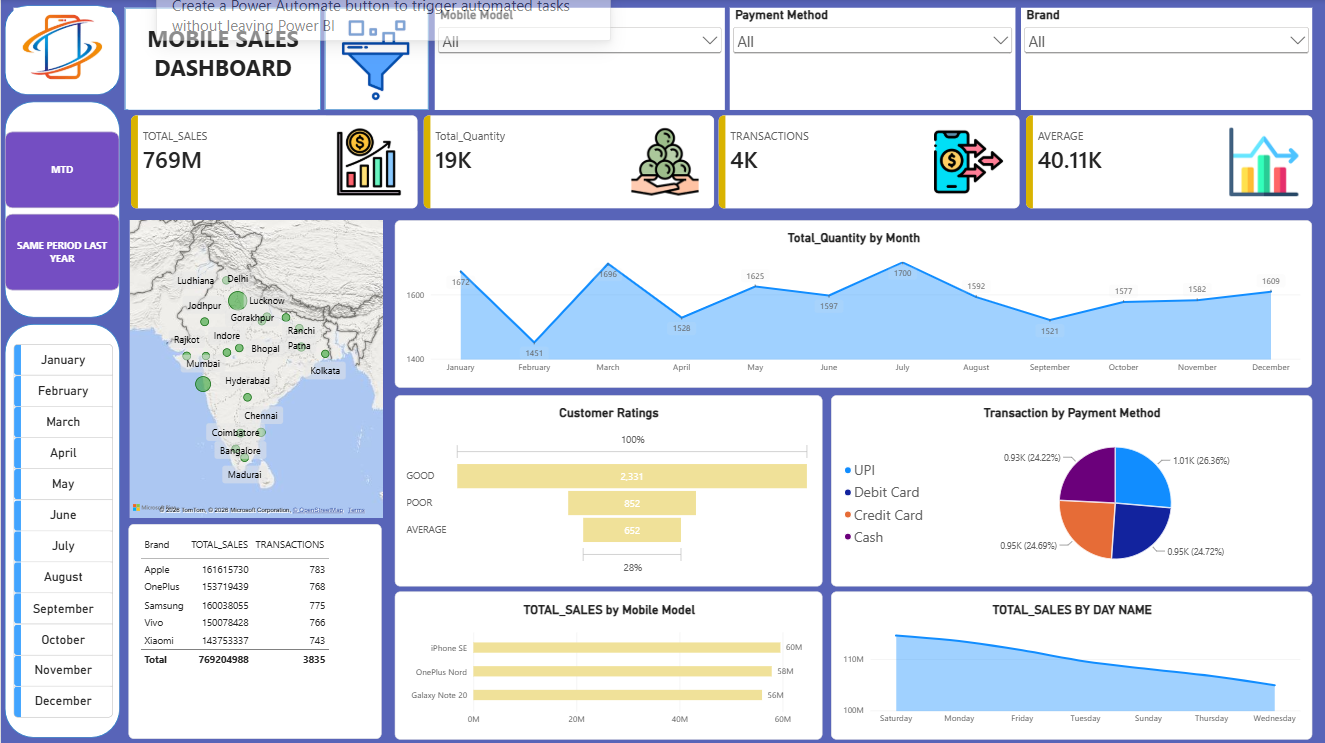

The page's visual inventory and layout, read from the dashboard file:
{"tool":"powerbi","page":{"name":"SAME PERIOD LAST YEAR","canvas":[1920,1080],"ordinal":2},"visuals":[{"type":"shape","box":[6.2,8.2,166.7,129.7],"z":0},{"type":"image","box":[18.5,12.3,142,113.2],"z":1000},{"type":"shape","box":[6.2,148.2,166.7,312.9],"z":2000},{"type":"shape","box":[6.2,471.4,166.7,599],"z":3000},{"type":"advancedSlicerVisual","fields":{"Values":["CUSTOM_DATE.Date.Variation.Date Hierarchy.Month"]},"box":[18.5,500.2,144.1,543.4],"z":4000},{"type":"cardVisual","fields":{"Data":["Mobile Sales.TOTAL AMOUNT"]},"box":[187.3,168.8,415.8,135.8],"z":5000},{"type":"slicer","fields":{"Values":["Mobile Sales.Mobile Model"]},"box":[627.8,12.3,419.9,148.2],"z":6000},{"type":"slicer","fields":{"Values":["CUSTOM_DATE.Date.Variation.Date Hierarchy.Year"]},"box":[1475.8,12.3,422,148.2],"z":7000},{"type":"slicer","fields":{"Values":["Mobile Sales.Payment Method"]},"box":[1055.9,12.3,413.7,148.2],"z":8000},{"type":"shape","box":[469.3,12.3,150.3,148.2],"z":9000},{"type":"image","box":[471.4,28.8,144.1,119.4],"z":10000},{"type":"shape","box":[179.1,12.3,284,148.2],"z":11000},{"type":"textbox","box":[185.2,16.5,273.8,144.1],"z":12000},{"type":"cardVisual","fields":{"Data":["Mobile Sales.Total_Quantity"]},"box":[611.3,168.8,422,135.8],"z":13000},{"type":"cardVisual","fields":{"Data":["Mobile Sales.TRANSACTIONS"]},"box":[1039.5,168.8,436.4,135.8],"z":14000},{"type":"cardVisual","fields":{"Data":["Mobile Sales.AVERAGE"]},"box":[1484.1,168.8,415.8,135.8],"z":15000},{"type":"tableEx","fields":{"Values":["CUSTOM_DATE.Date.Variation.Date Hierarchy.Year","CUSTOM_DATE.Date.Variation.Date Hierarchy.Quarter","Mobile Sales.TOTAL_SALES","Mobile Sales.LAST_YEAR"]},"box":[187.3,312.9,440.5,419.9],"z":16000},{"type":"clusteredColumnChart","title":"TOTAL SALES AND LAST YEAR","fields":{"Y":["Mobile Sales.LAST_YEAR","Mobile Sales.TOTAL_SALES"],"Category":["CUSTOM_DATE.Date.Variation.Date Hierarchy.Year","CUSTOM_DATE.Date.Variation.Date Hierarchy.Quarter","CUSTOM_DATE.Date.Variation.Date Hierarchy.Month","CUSTOM_DATE.Date.Variation.Date Hierarchy.Day"]},"box":[636,312.9,1261.8,419.9],"z":17000},{"type":"clusteredColumnChart","title":"TOTAL SALES AND LAST YEAR","fields":{"Y":["Mobile Sales.LAST_YEAR","Mobile Sales.TOTAL_SALES"],"Category":["CUSTOM_DATE.Date.Variation.Date Hierarchy.Year","CUSTOM_DATE.Date.Variation.Date Hierarchy.Quarter","CUSTOM_DATE.Date.Variation.Date Hierarchy.Month","CUSTOM_DATE.Date.Variation.Date Hierarchy.Day"]},"box":[179.1,745.1,448.7,325.2],"z":18000},{"type":"clusteredColumnChart","title":"TOTAL SALES AND LAST YEAR","fields":{"Y":["Mobile Sales.LAST_YEAR","Mobile Sales.TOTAL_SALES"],"Category":["CUSTOM_DATE.Date.Variation.Date Hierarchy.Year","CUSTOM_DATE.Date.Variation.Date Hierarchy.Quarter","CUSTOM_DATE.Date.Variation.Date Hierarchy.Month","CUSTOM_DATE.Date.Variation.Date Hierarchy.Day"]},"box":[638.1,745.1,1261.8,325.2],"z":19000},{"type":"pageNavigator","box":[6.2,191.4,166.7,230.5],"z":19001}]}

Visuals, with their boxes on the page's 1920x1080 design canvas (x1, y1, x2, y2). These are canvas units, not pixel positions in the 1325x743 screenshot, which may show the page scaled, cropped or inside an application window:
shape: region(6, 8, 173, 138)
image: region(18, 12, 160, 126)
shape: region(6, 148, 173, 461)
shape: region(6, 471, 173, 1070)
advancedSlicerVisual - CUSTOM_DATE.Date.Variation.Date Hierarchy.Month: region(18, 500, 163, 1044)
cardVisual - Mobile Sales.TOTAL AMOUNT: region(187, 169, 603, 305)
slicer - Mobile Sales.Mobile Model: region(628, 12, 1048, 160)
slicer - CUSTOM_DATE.Date.Variation.Date Hierarchy.Year: region(1476, 12, 1898, 160)
slicer - Mobile Sales.Payment Method: region(1056, 12, 1470, 160)
shape: region(469, 12, 620, 160)
image: region(471, 29, 616, 148)
shape: region(179, 12, 463, 160)
textbox: region(185, 16, 459, 161)
cardVisual - Mobile Sales.Total_Quantity: region(611, 169, 1033, 305)
cardVisual - Mobile Sales.TRANSACTIONS: region(1040, 169, 1476, 305)
cardVisual - Mobile Sales.AVERAGE: region(1484, 169, 1900, 305)
tableEx - CUSTOM_DATE.Date.Variation.Date Hierarchy.Year x CUSTOM_DATE.Date.Variation.Date Hierarchy.Quarter: region(187, 313, 628, 733)
"TOTAL SALES AND LAST YEAR" clusteredColumnChart: region(636, 313, 1898, 733)
"TOTAL SALES AND LAST YEAR" clusteredColumnChart: region(179, 745, 628, 1070)
"TOTAL SALES AND LAST YEAR" clusteredColumnChart: region(638, 745, 1900, 1070)
pageNavigator: region(6, 191, 173, 422)
